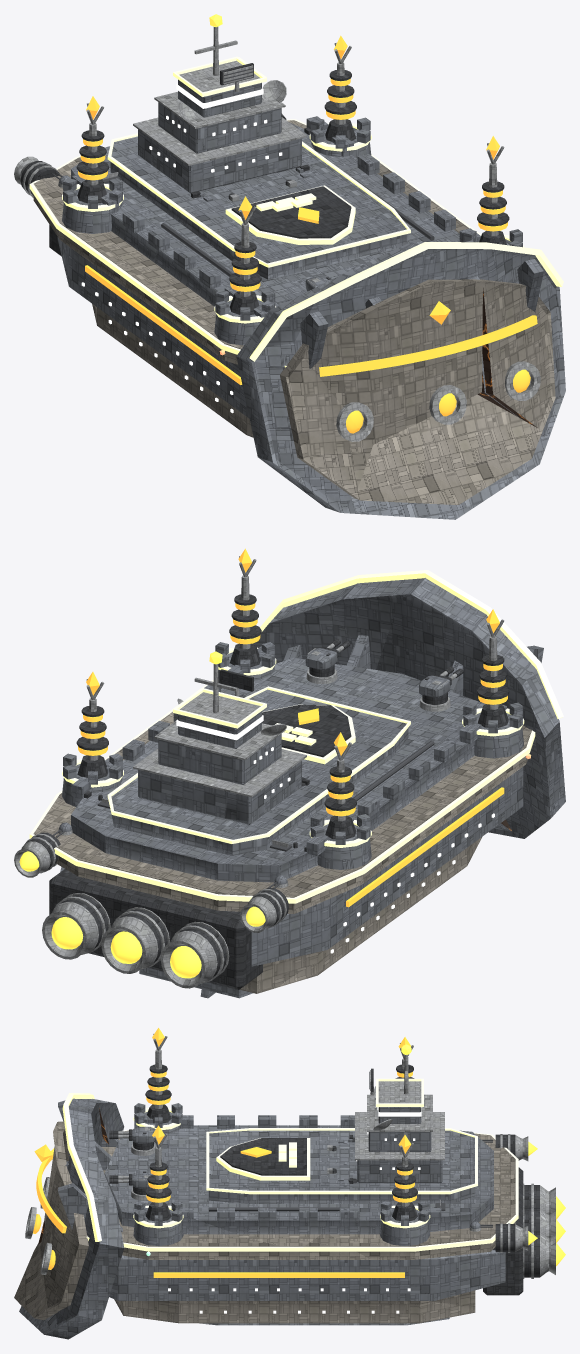
File: bastion_wreck.glb
3 views of the same model, one above another, from view 1: azimuth 30°, elevation 25°; view 2: azimuth 150°, elevation 25°; view 3: azimuth 270°, elevation 25° (orthographic). The views are drawn at different scales.
Visible parts, largest first — view 1: bastion_wreck_01, bastion_wreck_00, bastion_wreck_16, bastion_wreck_06, bastion_wreck_17, bastion_wreck_03, bastion_wreck_18, bastion_wreck_04, bastion_wreck_11, bastion_wreck_08, bastion_wreck_13, bastion_wreck_12 (+3 smaller); view 2: bastion_wreck_05, bastion_wreck_12, bastion_wreck_00, bastion_wreck_04, bastion_wreck_01, bastion_wreck_19, bastion_wreck_06, bastion_wreck_02, bastion_wreck_18, bastion_wreck_11, bastion_wreck_13, bastion_wreck_03 (+5 smaller); view 3: bastion_wreck_03, bastion_wreck_06, bastion_wreck_02, bastion_wreck_20, bastion_wreck_15, bastion_wreck_08, bastion_wreck_04, bastion_wreck_18, bastion_wreck_05, bastion_wreck_19, bastion_wreck_01, bastion_wreck_13 (+6 smaller).
Boxes of the visible parts, x1,y1,x2,y2 form: bastion_wreck_01: [294, 242, 493, 444]; bastion_wreck_00: [51, 96, 222, 326]; bastion_wreck_16: [346, 394, 548, 519]; bastion_wreck_06: [202, 35, 405, 197]; bastion_wreck_17: [219, 343, 372, 513]; bastion_wreck_03: [473, 235, 565, 438]; bastion_wreck_18: [166, 193, 342, 290]; bastion_wreck_04: [178, 196, 332, 355]; bastion_wreck_11: [109, 244, 211, 406]; bastion_wreck_08: [296, 172, 462, 258]; bastion_wreck_13: [150, 14, 266, 137]; bastion_wreck_12: [14, 134, 139, 312]; bastion_wreck_05: [45, 816, 225, 988]; bastion_wreck_12: [208, 818, 350, 993]; bastion_wreck_00: [224, 732, 424, 944]; bastion_wreck_04: [397, 609, 558, 782]; bastion_wreck_01: [376, 570, 543, 704]; bastion_wreck_19: [245, 573, 420, 717]; bastion_wreck_06: [64, 672, 282, 821]; bastion_wreck_02: [14, 757, 151, 942]; bastion_wreck_18: [279, 704, 446, 790]; bastion_wreck_11: [339, 767, 488, 955]; bastion_wreck_13: [169, 651, 286, 795]; bastion_wreck_03: [211, 574, 371, 681]; bastion_wreck_03: [40, 1141, 174, 1333]; bastion_wreck_06: [308, 1108, 463, 1270]; bastion_wreck_02: [392, 1172, 555, 1307]; bastion_wreck_20: [135, 1218, 292, 1325]; bastion_wreck_15: [230, 1233, 408, 1325]; bastion_wreck_08: [193, 1158, 325, 1251]; bastion_wreck_04: [81, 1028, 234, 1158]; bastion_wreck_18: [181, 1115, 344, 1172]; bastion_wreck_05: [445, 1144, 565, 1277]; bastion_wreck_19: [66, 1118, 212, 1212]; bastion_wreck_01: [25, 1093, 140, 1237]; bastion_wreck_13: [367, 1044, 444, 1127].
Size of the model in its own units: 5.84 by 5.99 by 10.97.
12 materials, 5 textured.
